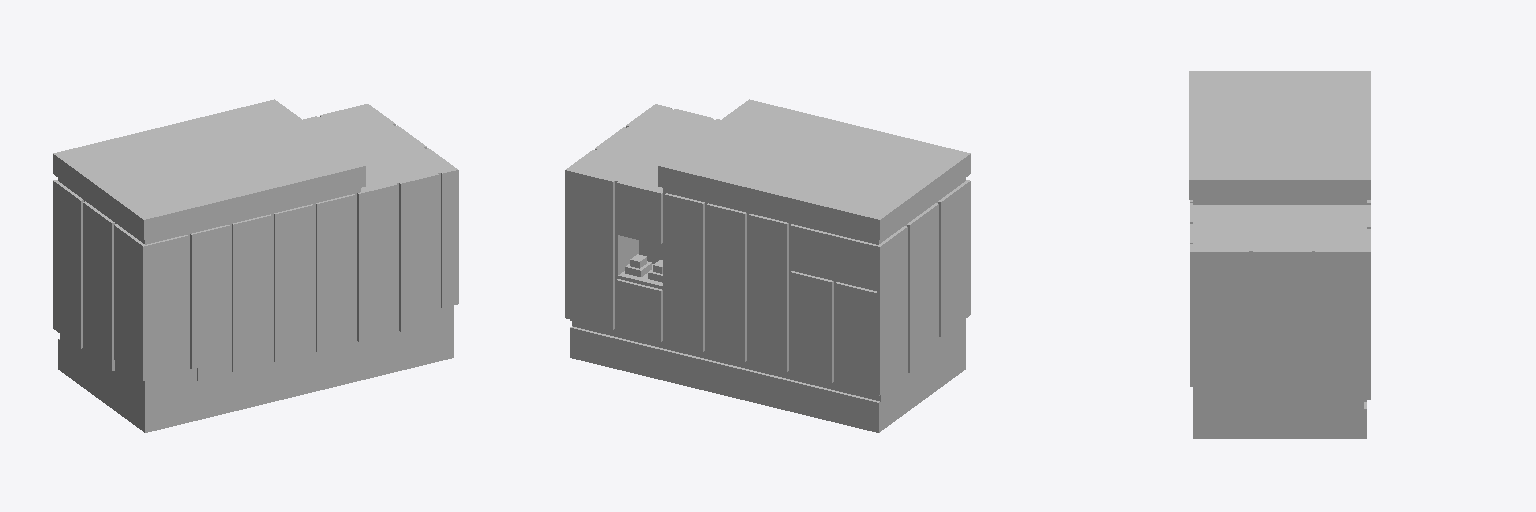
Rendered from nmplm.obj.
3 renders of one model, left to right at view 1: azimuth 30°, elevation 25°; view 2: azimuth 150°, elevation 25°; view 3: azimuth 270°, elevation 25°, orthographic.
Parts seen in each view (by area): view 1: cube; view 2: cube; view 3: cube.
Part boxes in pixels (left/top/right/bottom): cube: left=53, top=99, right=458, bottom=432; cube: left=565, top=99, right=970, bottom=432; cube: left=1189, top=71, right=1370, bottom=438.
Bounding box in the file's own units: 6.12 × 4 × 3.06.